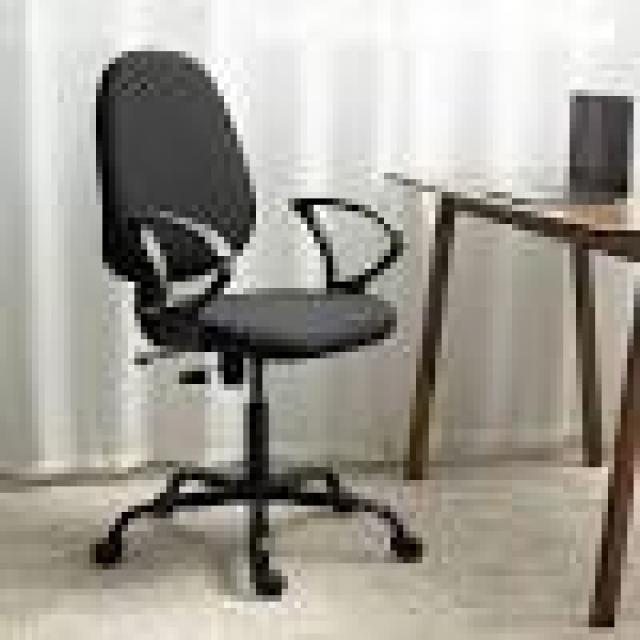chair: (27, 22, 460, 640)
